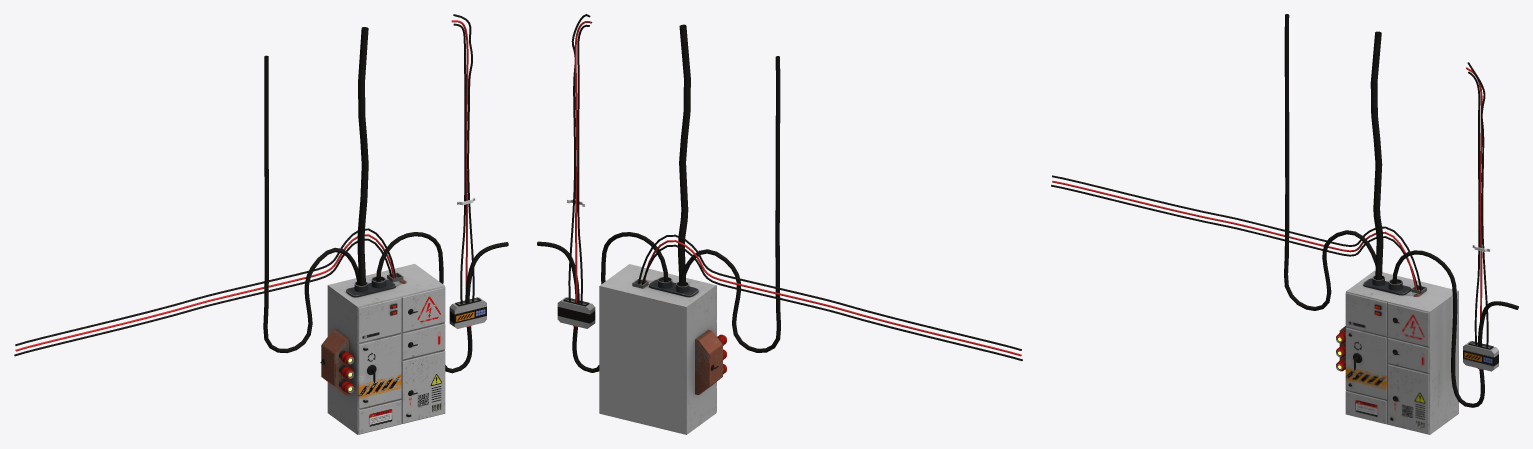
Rendered from elec.glb.
The picture shows the model from 3 angles, left to right: view 1: azimuth 30°, elevation 25°; view 2: azimuth 150°, elevation 25°; view 3: azimuth 330°, elevation 25°; orthographic projection. The views are drawn at different scales.
Parts seen in each view (by area): view 1: Object_3, Object_21, Object_22, Object_17, Object_10, Object_13; view 2: Object_3, Object_21, Object_22, Object_17, Object_10, Object_13; view 3: Object_3, Object_21, Object_22, Object_17, Object_13, Object_10.
Part boxes in pixels (x1,y1,x2,y2): Object_3: (327, 264, 445, 434); Object_21: (14, 20, 468, 356); Object_22: (263, 14, 474, 395); Object_17: (376, 232, 508, 373); Object_10: (449, 297, 486, 328); Object_13: (346, 276, 395, 297); Object_3: (599, 264, 716, 434); Object_21: (574, 21, 1022, 360); Object_22: (568, 14, 780, 394); Object_17: (537, 232, 668, 372); Object_10: (557, 297, 595, 328); Object_13: (649, 277, 698, 297); Object_3: (1345, 270, 1458, 434); Object_21: (1051, 31, 1482, 344); Object_22: (1284, 14, 1488, 359); Object_17: (1392, 250, 1518, 407); Object_13: (1363, 275, 1411, 295); Object_10: (1463, 341, 1498, 371).
Size of the model in its own units: 11.21 by 8.59 by 1.37.
Materials: 20 (20 with a texture image).
